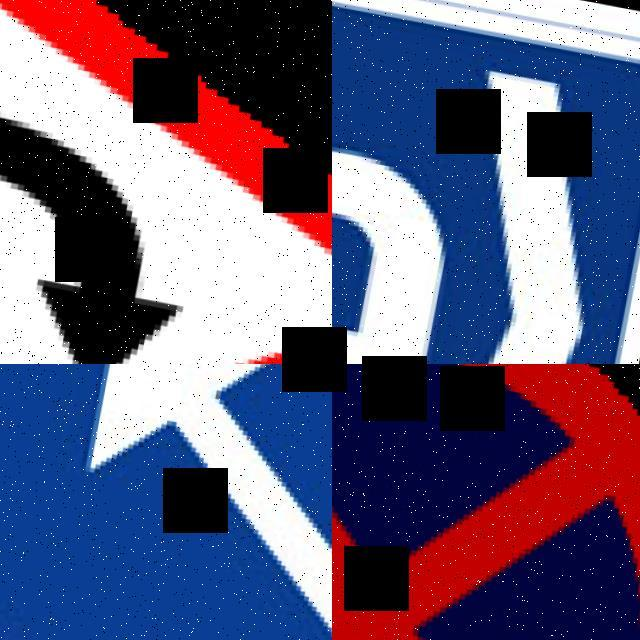87: (332, 0, 640, 364)
93: (0, 364, 332, 640)
Left curve: (0, 0, 332, 364)
No stopping: (332, 364, 640, 640)
